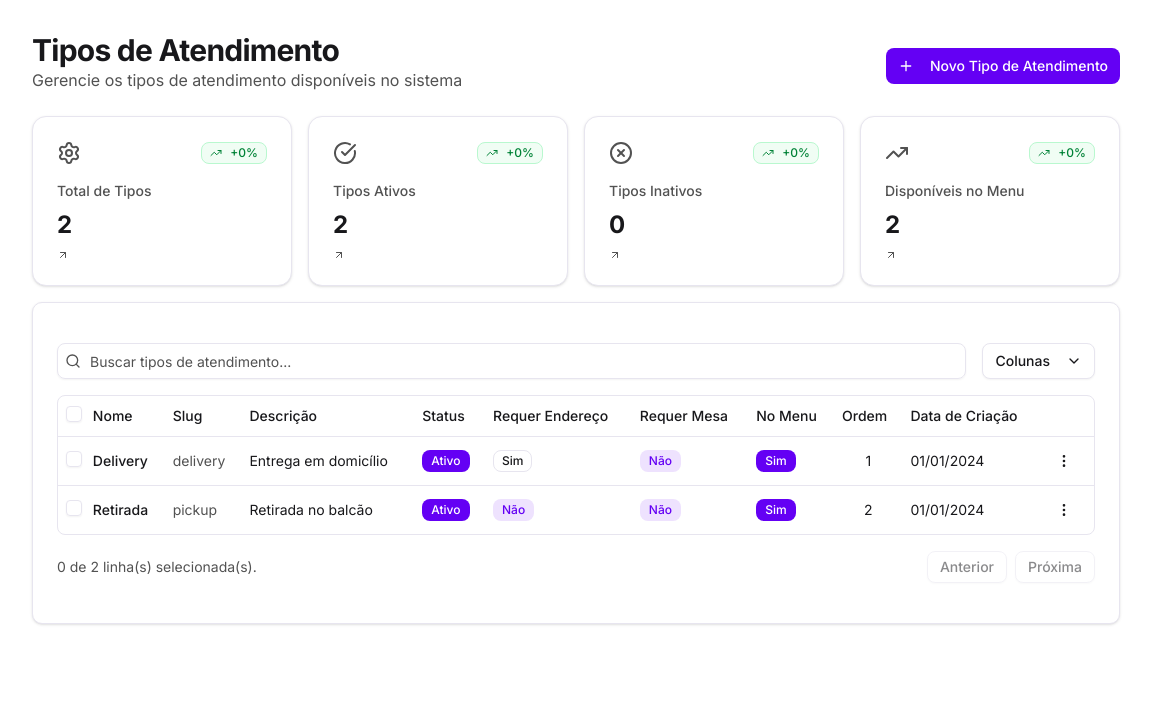
it: ServiceTypes delete - frontend › exibe diálogo de confirmação ao clicar em excluir
Expected: the text "Delivery" is shown, left=93, top=450, right=157, bottom=470
Clicar no primeiro botão de ações
Step 1. Click the button named "Open menu" in the row of "Entrega em domicílio" → (1064, 460), box left=1048, top=444, right=1080, bottom=476
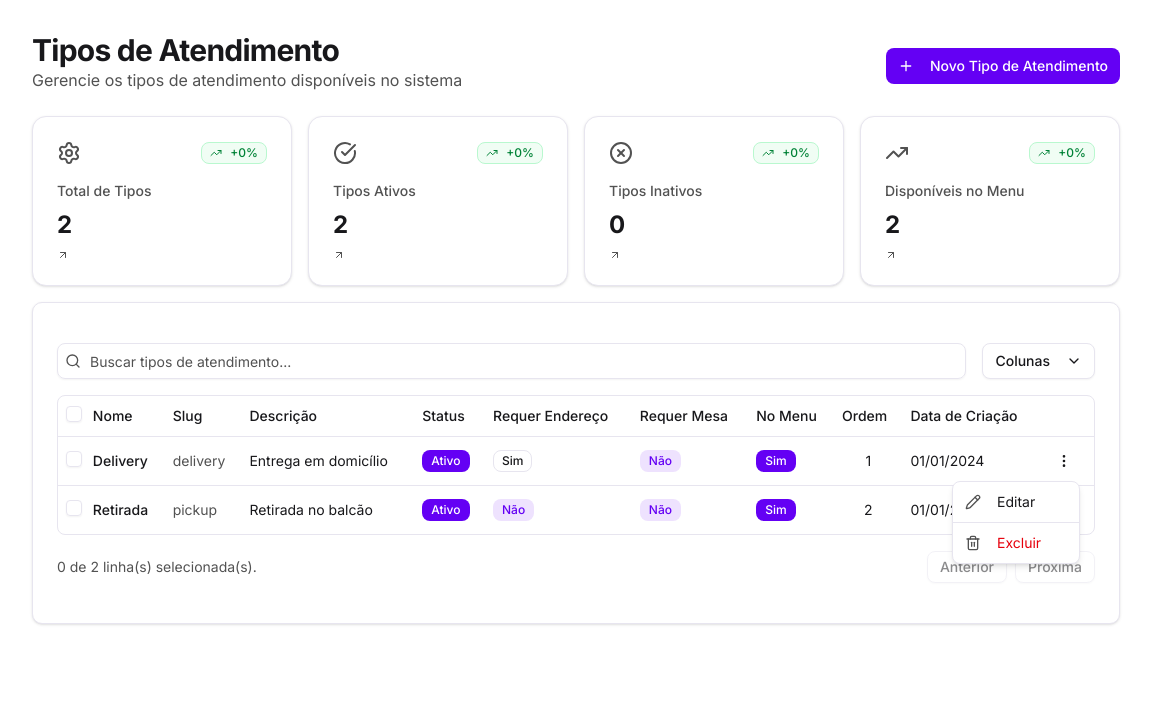
Clicar em "Excluir"
Step 2. Click the menu item "Excluir" → (1003, 542), box left=965, top=534, right=1041, bottom=551
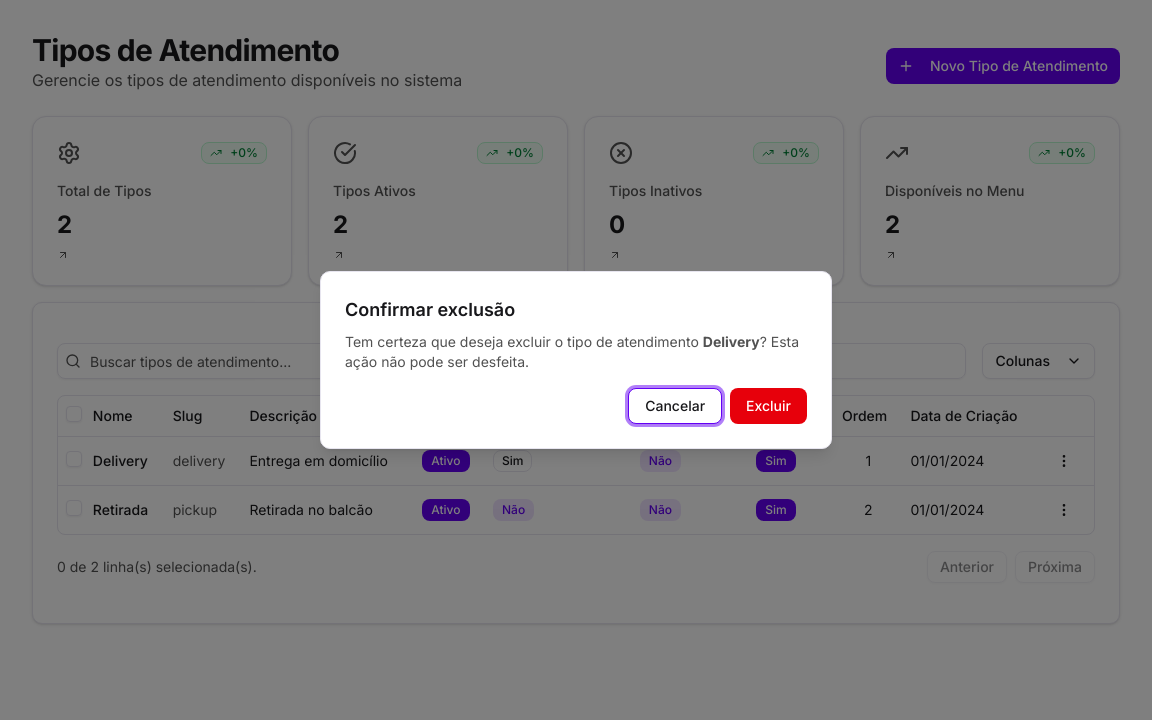
Now the heading "Confirmar exclusão" is shown, box left=345, top=299, right=515, bottom=320
Now the text "Tem certeza que deseja excluir o tipo de atendimento" is shown, box left=345, top=333, right=699, bottom=350
